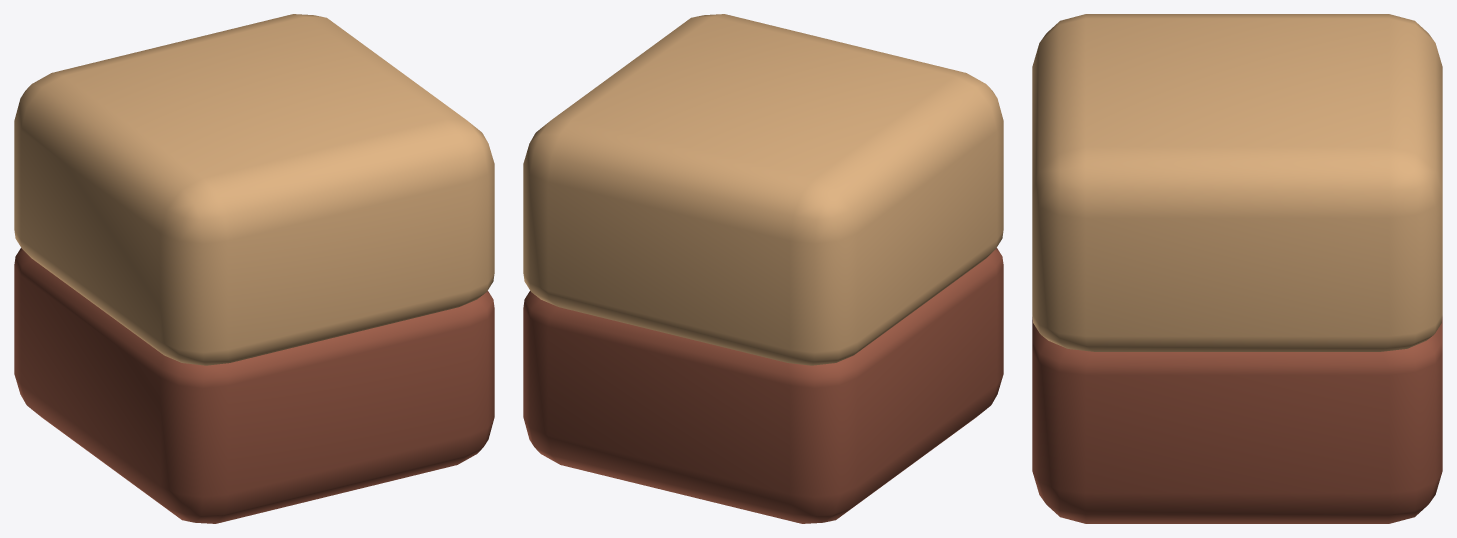
File: tileSmall_desert-col.glb
3 views of the same model, side by side, from view 1: azimuth 30°, elevation 25°; view 2: azimuth 150°, elevation 25°; view 3: azimuth 270°, elevation 25° (orthographic). The views are drawn at different scales.
Parts seen in each view (by area): view 1: tileSmall_desert-col; view 2: tileSmall_desert-col; view 3: tileSmall_desert-col.
Boxes of the visible parts, x1,y1,x2,y2 form: tileSmall_desert-col: [14, 14, 494, 523]; tileSmall_desert-col: [523, 14, 1003, 523]; tileSmall_desert-col: [1032, 14, 1442, 523].
Size of the model in its own units: 1 by 1 by 1.
